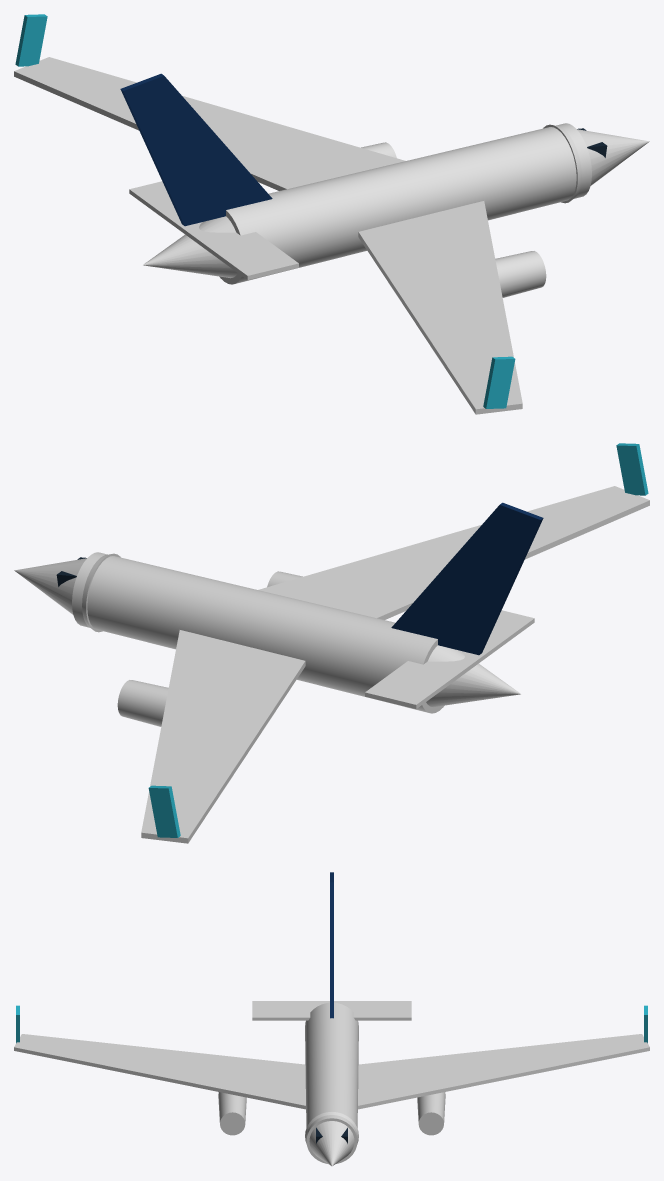
3 renders of one model, top to bottom at view 1: azimuth 30°, elevation 25°; view 2: azimuth 150°, elevation 25°; view 3: azimuth 270°, elevation 25°, orthographic. The views are drawn at different scales.
Visible parts, largest first — view 1: Fuselage, RightWing, LeftWing, VerticalStabilizer, HorizontalStabilizer, VAYAAirliner, TailCone, NoseCone, EngineRight; view 2: Fuselage, LeftWing, RightWing, VerticalStabilizer, HorizontalStabilizer, VAYAAirliner, TailCone, NoseCone, EngineLeft; view 3: RightWing, LeftWing, Fuselage, HorizontalStabilizer, NoseCone, EngineRight, EngineLeft, VerticalStabilizer.
Part boxes in pixels (x1,y1,x2,y2): Fuselage: (219,123,591,284); RightWing: (358,201,522,414); LeftWing: (14,57,405,190); VerticalStabilizer: (120,73,272,226); HorizontalStabilizer: (129,181,298,279); VAYAAirliner: (15,14,515,408); TailCone: (143,216,237,278); NoseCone: (543,124,649,203); EngineRight: (495,251,546,297); Fuselage: (72,552,444,713); LeftWing: (141,630,305,843); RightWing: (258,486,649,619); VerticalStabilizer: (391,502,543,655); HorizontalStabilizer: (365,610,534,708); VAYAAirliner: (148,443,648,837); TailCone: (426,645,520,707); NoseCone: (14,553,120,632); EngineLeft: (117,680,168,726); RightWing: (14,1034,305,1109); LeftWing: (358,1034,649,1109); Fuselage: (305,1002,358,1163); HorizontalStabilizer: (252,1001,411,1020); NoseCone: (305,1112,358,1166); EngineRight: (218,1092,246,1135); EngineLeft: (417,1092,445,1135); VerticalStabilizer: (330,872,333,1018).
Bounding box in the file's own units: 5.15 × 2.17 × 8.
